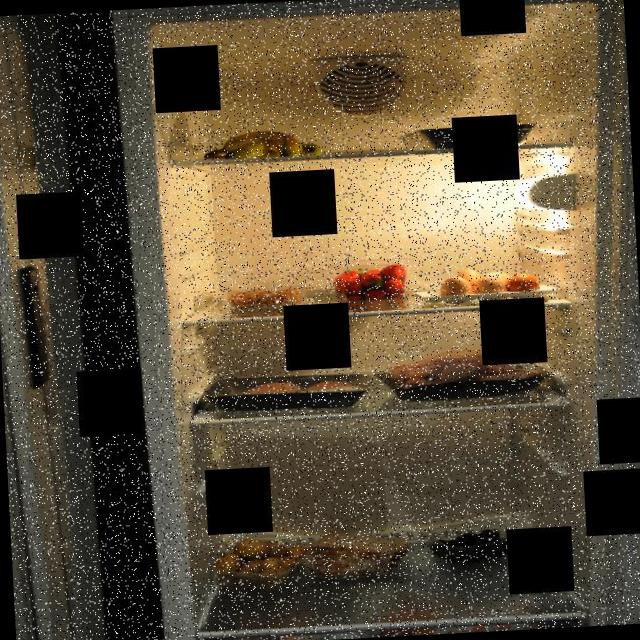Carne pollo: (378, 343, 550, 403), (204, 369, 376, 416)
Gambas/Langostinos: (225, 282, 310, 310)
Huevos: (437, 264, 542, 304)
Patata: (208, 531, 312, 590)
Plátano: (203, 125, 327, 170)
blueberries: (422, 516, 526, 568)
bread: (302, 526, 413, 582)
strawberries: (330, 259, 410, 303)
